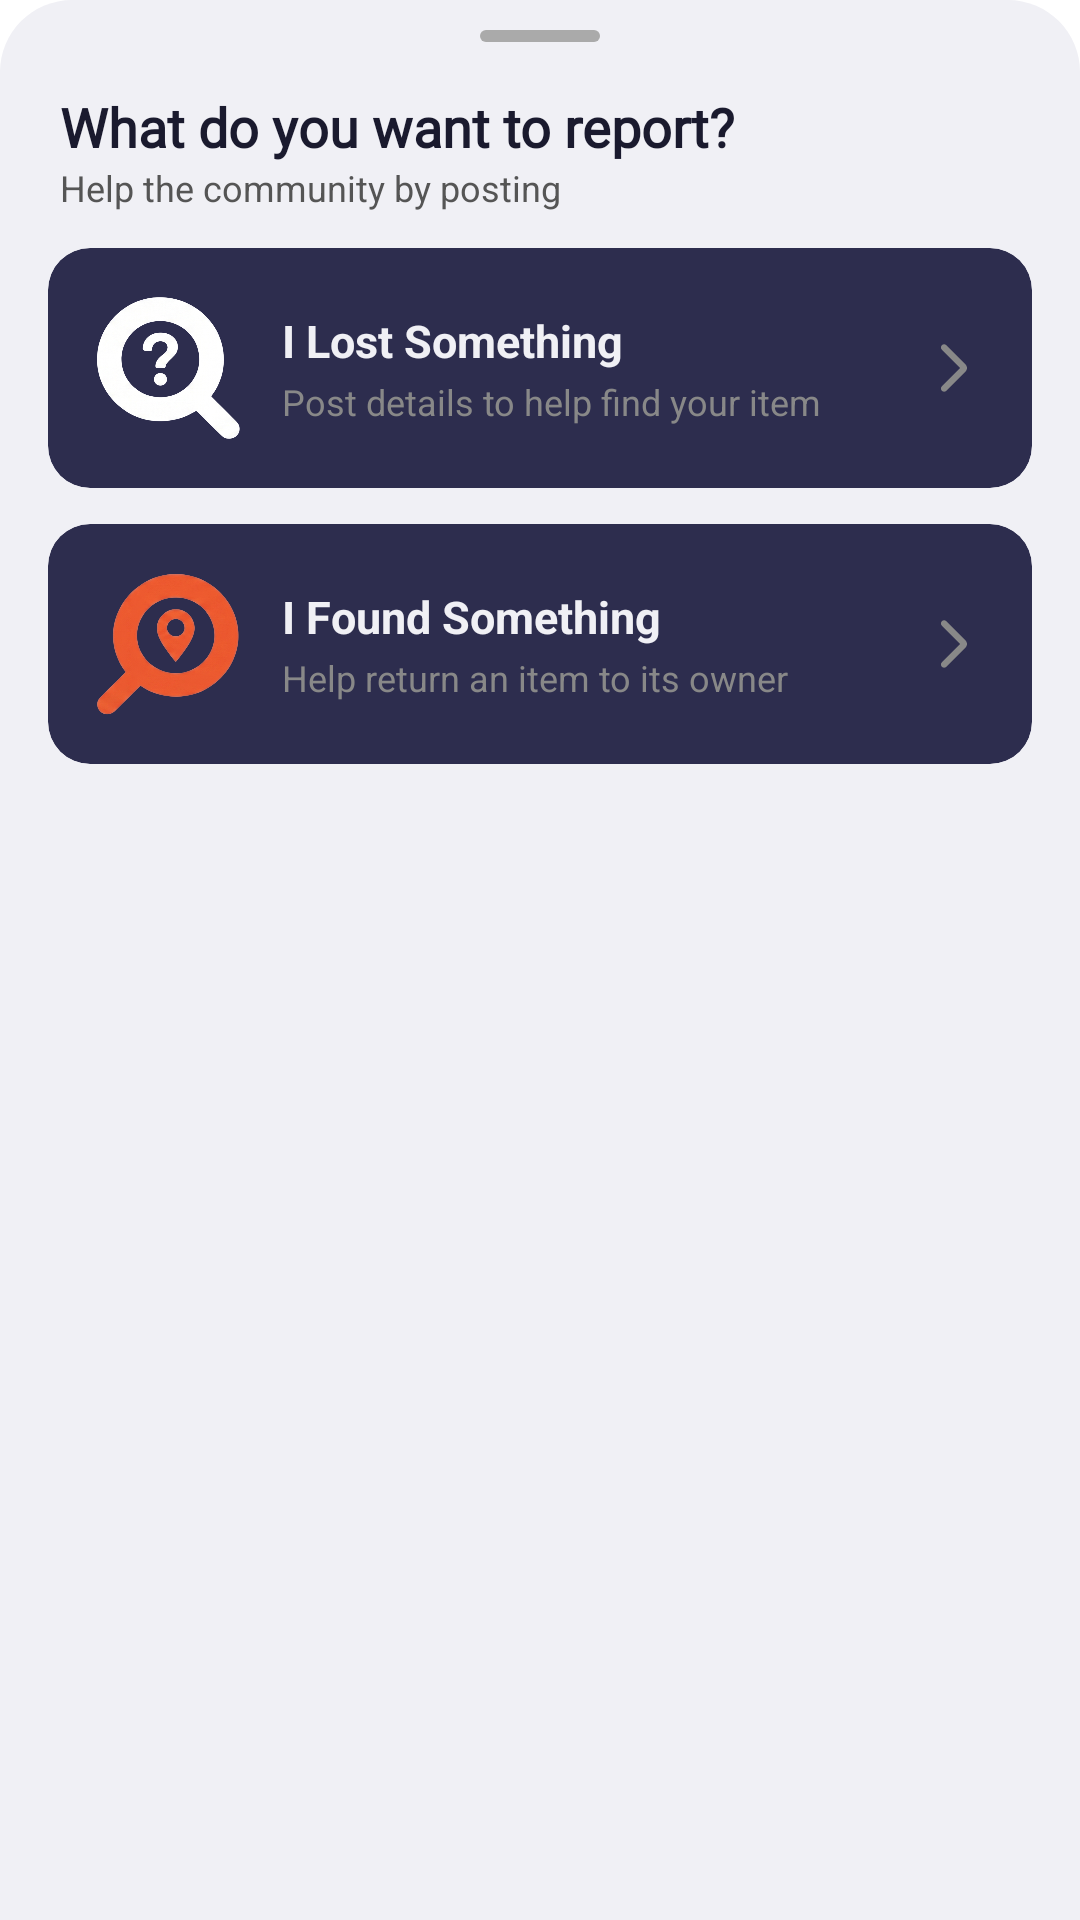

Where icons sit on this 1080x1920 app screen, as (x1, y1, x2, y2):
chevron right: (941, 344, 967, 392), (941, 620, 967, 668)
